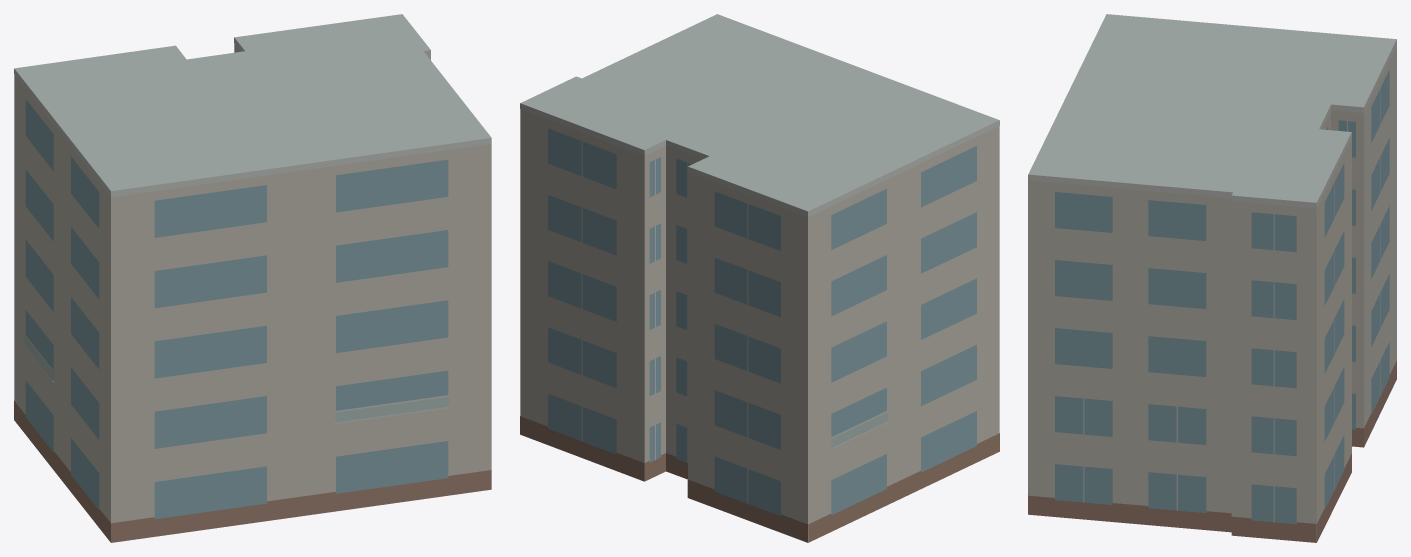
The model's file is survey-upis-32954628.glb.
3 views of the same model, side by side, from view 1: azimuth 30°, elevation 25°; view 2: azimuth 150°, elevation 25°; view 3: azimuth 270°, elevation 25° (orthographic). The views are drawn at different scales.
Visible parts, largest first — view 1: survey-upis-32954628.tmp; view 2: survey-upis-32954628.tmp; view 3: survey-upis-32954628.tmp.
Boxes of the visible parts, box(x1,y1,x2,y2) form: survey-upis-32954628.tmp: box(14, 14, 491, 542); survey-upis-32954628.tmp: box(520, 14, 999, 542); survey-upis-32954628.tmp: box(1028, 14, 1396, 542).
Bounding box in the file's own units: 16.98 × 14.25 × 14.01.
